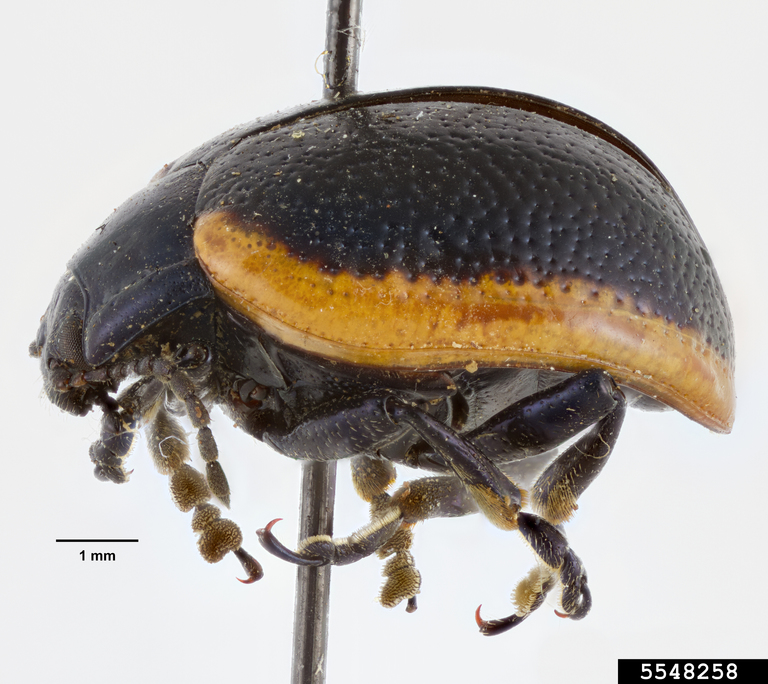Chrysolina_gypsophila: (20, 77, 739, 645)
